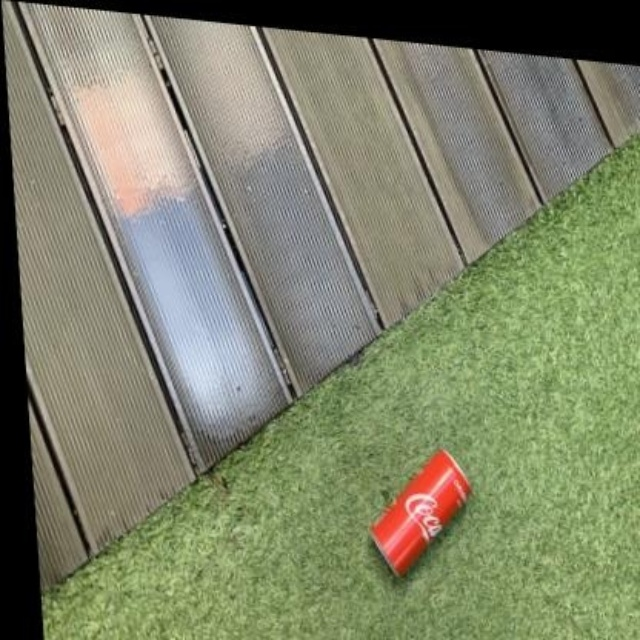trash: (371, 449, 469, 574)
